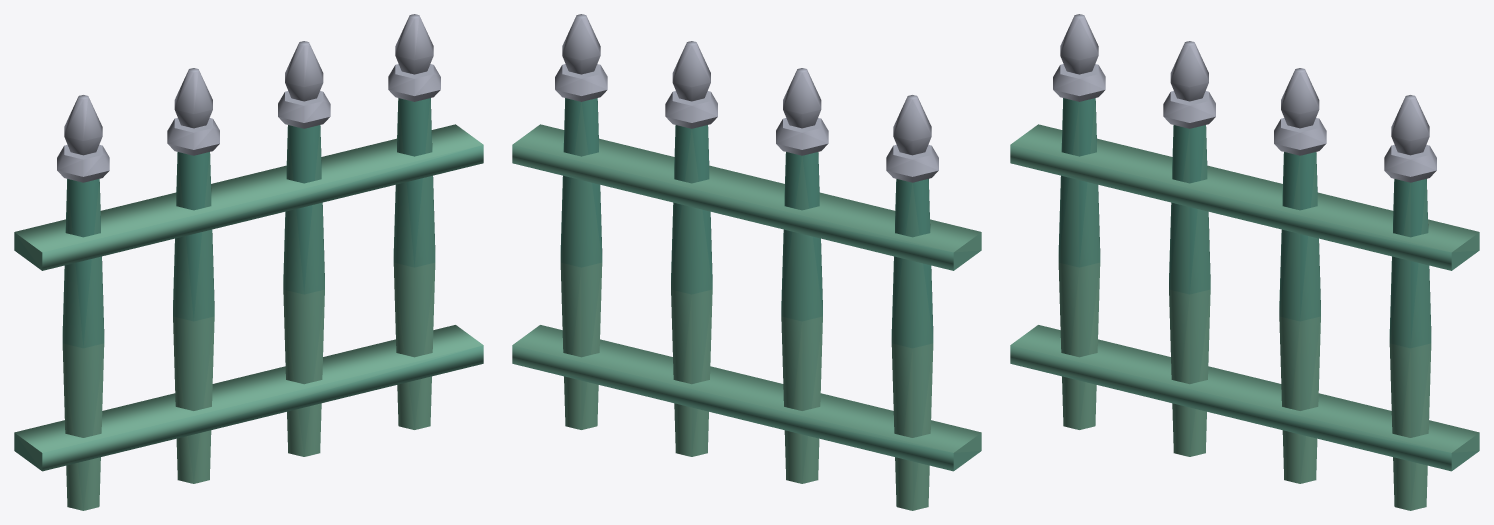
Rendered from kgy_iron-fence.fbx.
The picture shows the model from 3 angles, left to right: view 1: azimuth 30°, elevation 25°; view 2: azimuth 150°, elevation 25°; view 3: azimuth 330°, elevation 25°; orthographic projection.
Parts seen in each view (by area): view 1: iron-fence; view 2: iron-fence; view 3: iron-fence.
Part boxes in pixels (x1=…): iron-fence: x1=14, y1=14, x2=483, y2=510; iron-fence: x1=512, y1=14, x2=981, y2=510; iron-fence: x1=1010, y1=14, x2=1479, y2=510.
Size of the model in its own units: 100 by 87.89 by 11.
